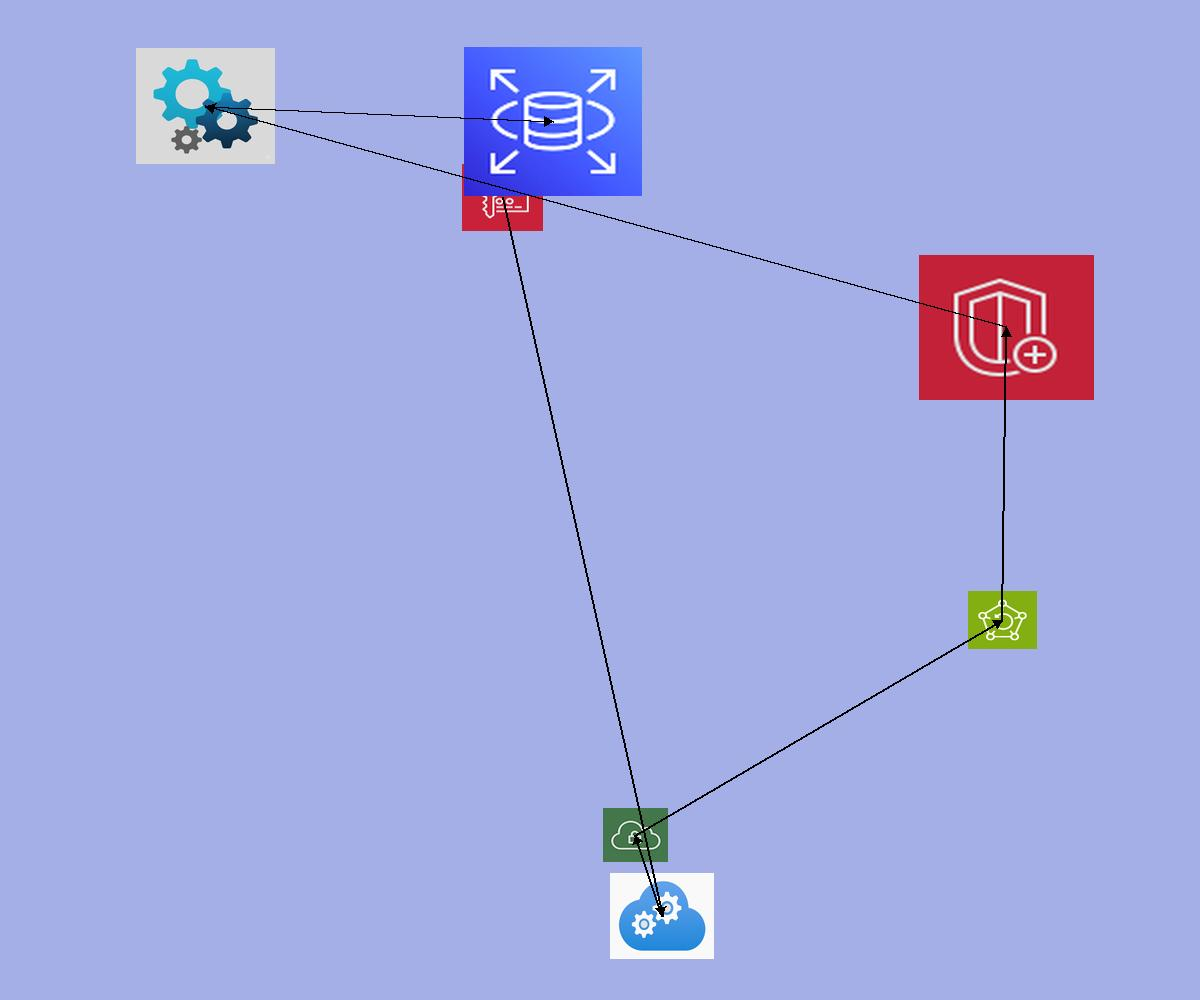AWS-Backup: (968, 591, 1037, 649)
AWS-Key-Management-Service: (462, 164, 543, 231)
AWS-Private_vpc: (603, 808, 668, 862)
AWS-RDS: (464, 47, 642, 196)
AWS-Shield: (919, 255, 1094, 400)
Azure_api: (136, 48, 275, 164)
Azure_cloud_services: (610, 873, 714, 959)
